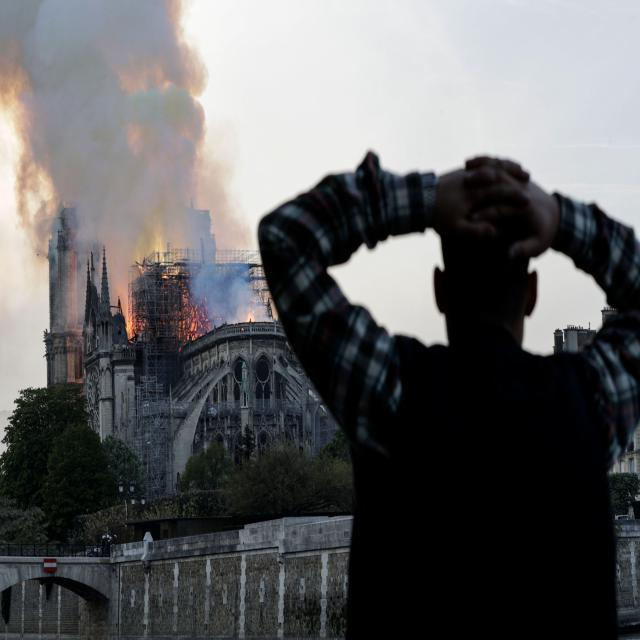Fire: (94, 220, 264, 342)
